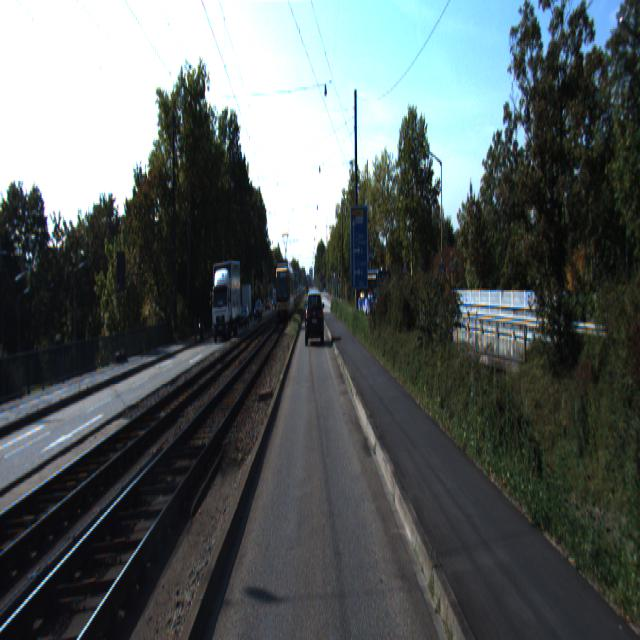Car: (210, 259, 241, 345), (356, 268, 392, 323), (306, 293, 323, 347)
